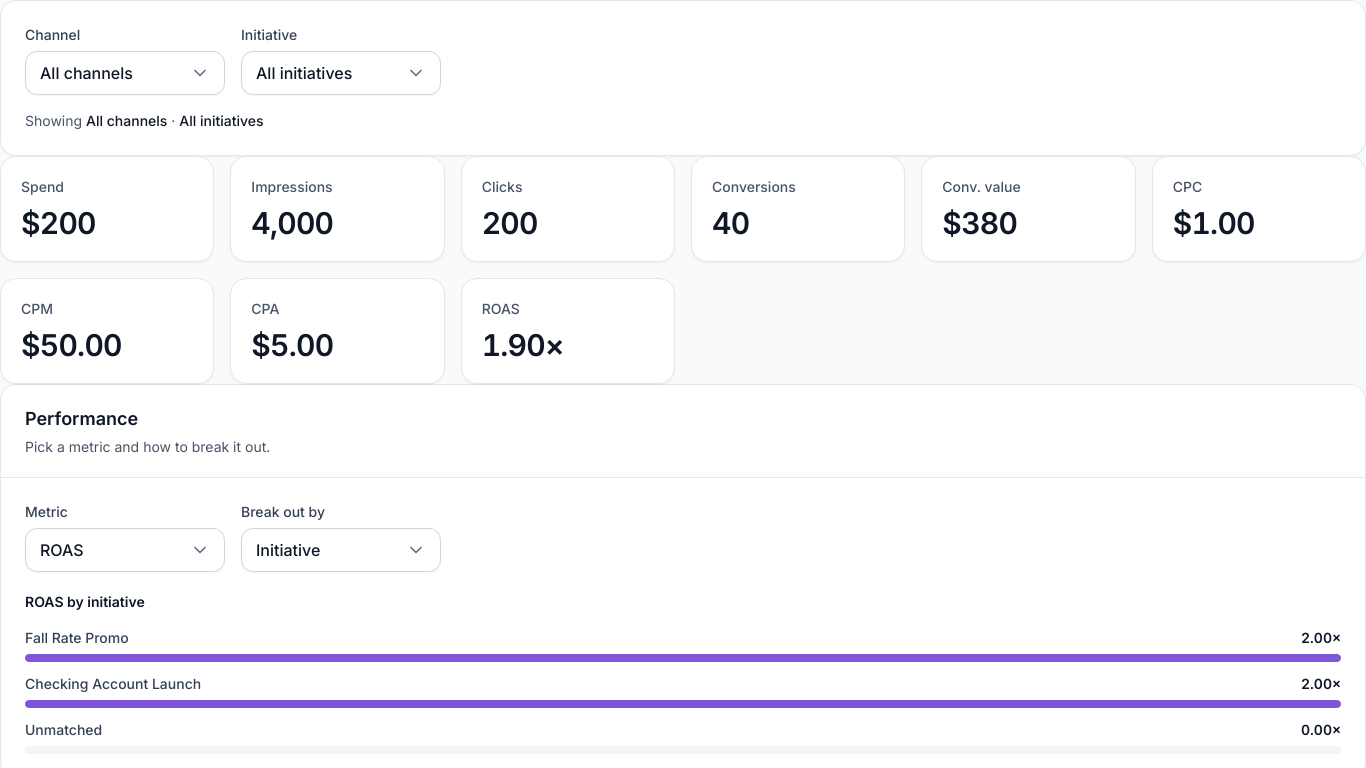
Scenario: Dashboard › filters by initiative
This screenshot has width=1366, height=768.
Click the button "All initiatives". click: (341, 73)
box: [241,51,441,95]
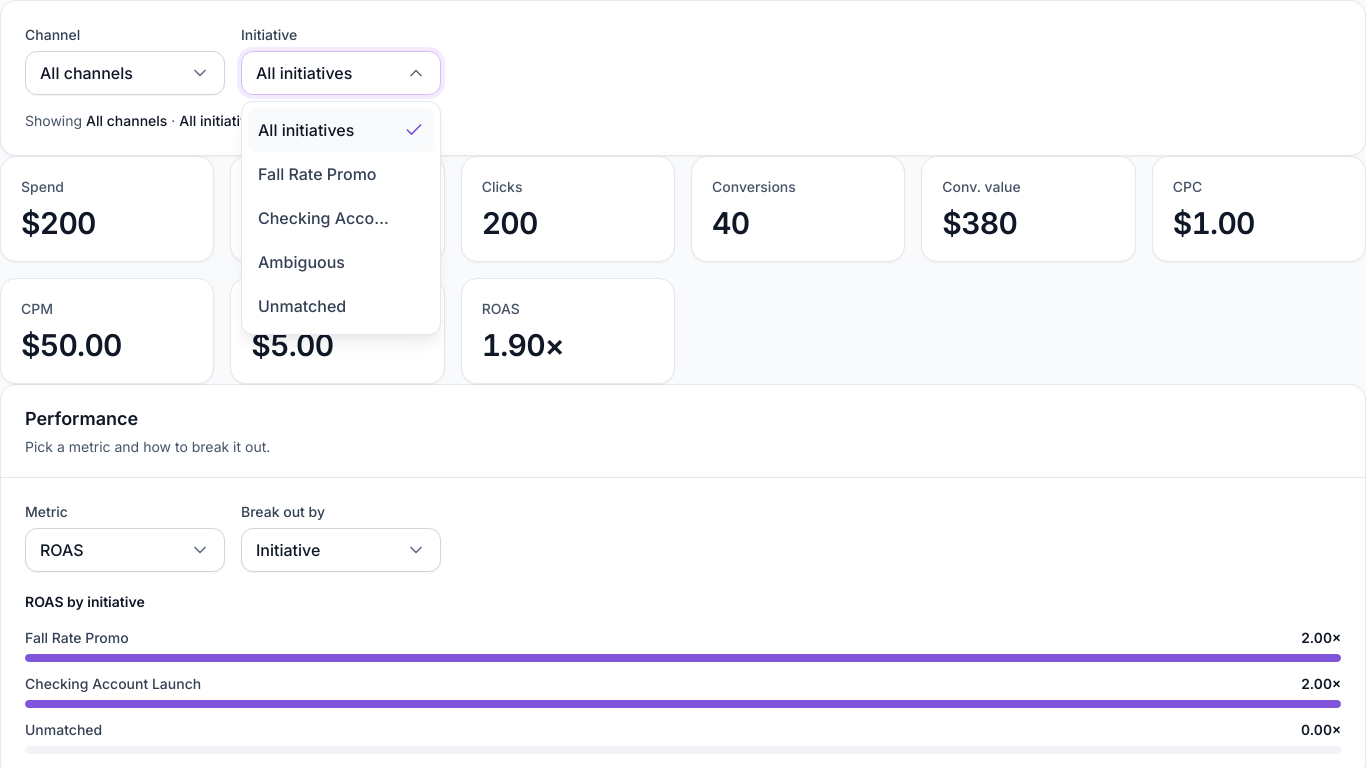
Click the option "Fall Rate Promo". click: (341, 174)
box: [248,152,434,196]
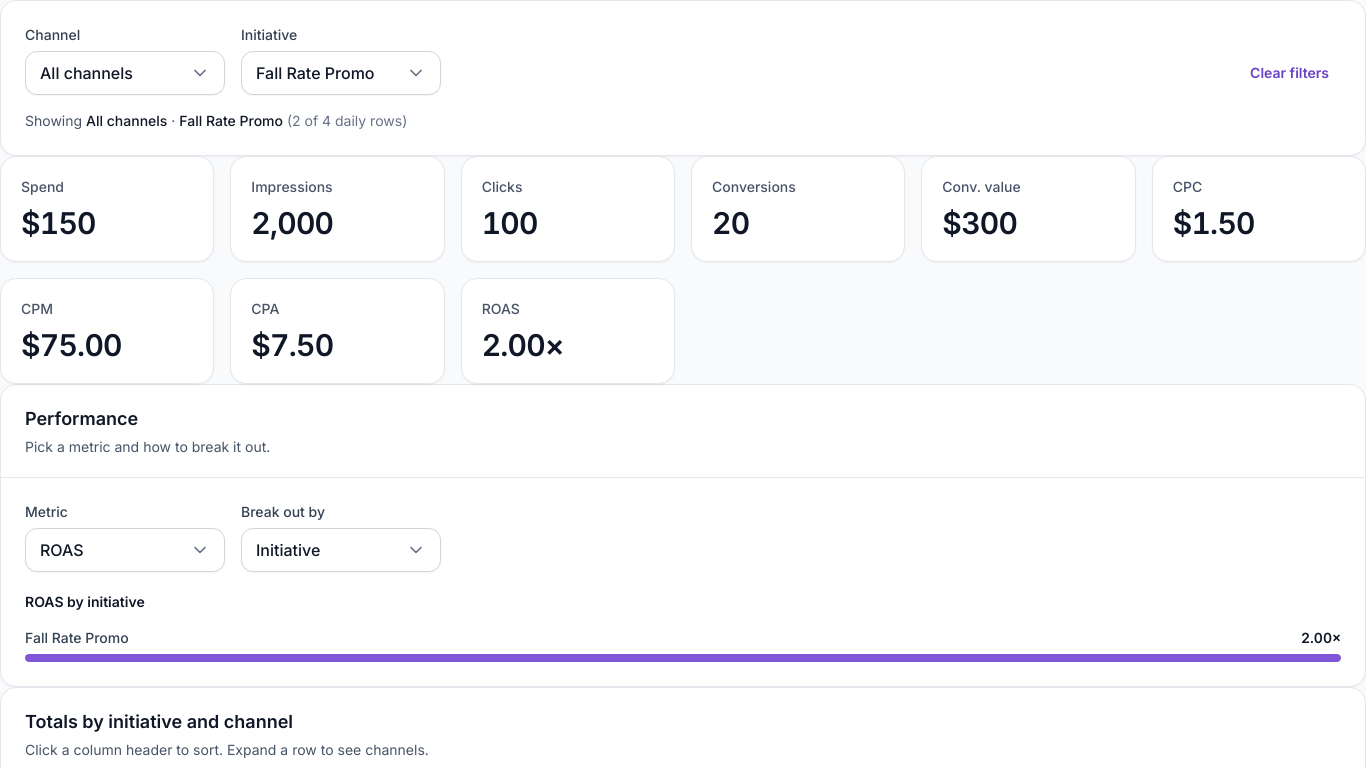
Expected: the text "(2 of 4 daily rows)" is shown, [283,112,407,129]
